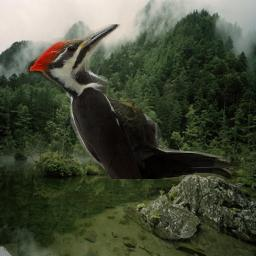Woodpecker: (16, 24, 244, 179)
